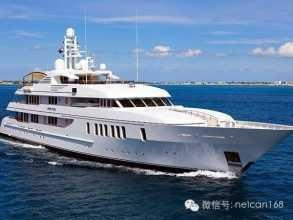yacht: (6, 33, 287, 174)
